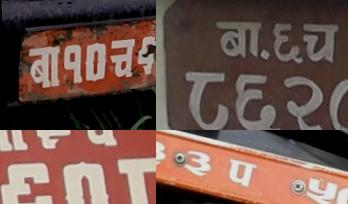0: (55, 158, 115, 204), (323, 74, 348, 130), (80, 42, 109, 86), (333, 187, 348, 204)
1: (59, 43, 84, 88)
2: (278, 72, 327, 130)
3: (28, 130, 75, 154), (183, 150, 211, 174), (156, 138, 165, 165)
5: (302, 177, 336, 204)
6: (228, 69, 282, 130), (0, 158, 58, 204), (266, 18, 305, 66), (133, 35, 156, 79)
8: (176, 62, 231, 130), (109, 150, 156, 204)
ba: (211, 17, 264, 62), (23, 43, 64, 90), (0, 130, 30, 155)
cha: (298, 16, 343, 68), (106, 38, 138, 86), (70, 130, 124, 150)
pa: (224, 156, 256, 190)
